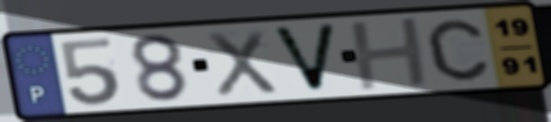5: (59, 35, 124, 107)
8: (127, 32, 191, 104)
C: (424, 17, 492, 83)
H: (346, 15, 434, 94)
V: (268, 22, 341, 95)
X: (204, 28, 281, 99)
